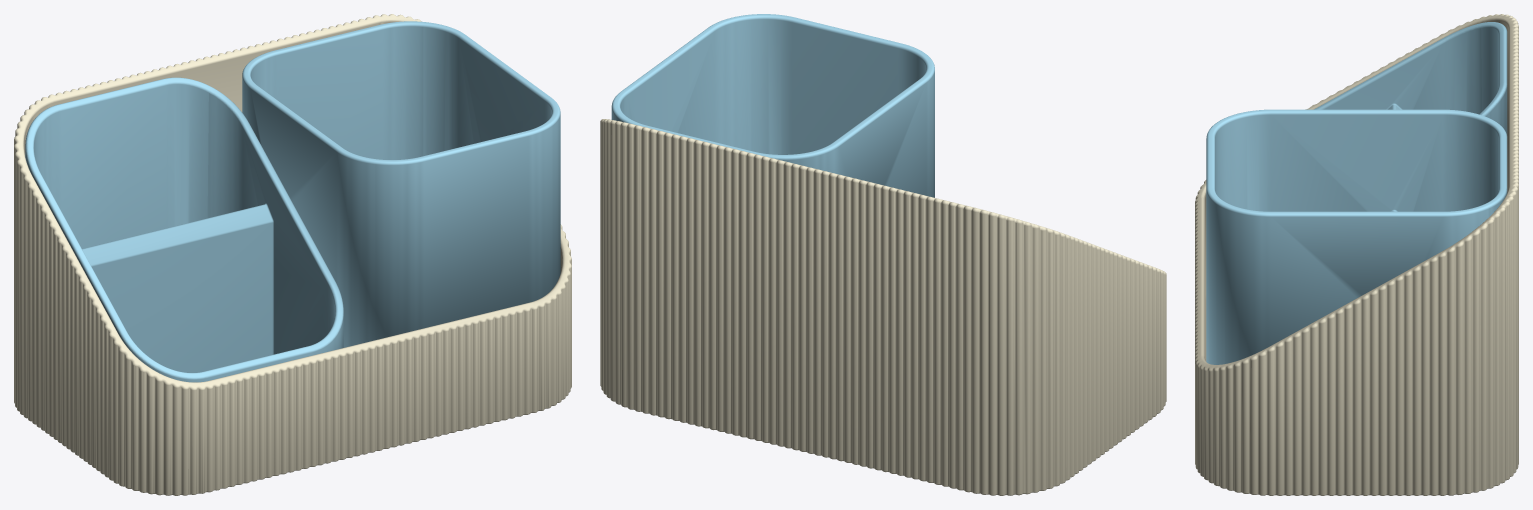
Rendered from masa-organizeri-egik.glb.
The picture shows the model from 3 angles, left to right: view 1: azimuth 30°, elevation 25°; view 2: azimuth 150°, elevation 25°; view 3: azimuth 270°, elevation 25°; orthographic projection.
Parts seen in each view (by area): view 1: Taban, Kare, Egik; view 2: Taban, Kare; view 3: Taban, Kare, Egik.
Boxes of the visible parts, bbox=[...] form: Taban: bbox=[14, 14, 571, 495]; Kare: bbox=[242, 21, 560, 347]; Egik: bbox=[25, 77, 343, 382]; Taban: bbox=[600, 119, 1166, 495]; Kare: bbox=[611, 14, 934, 197]; Taban: bbox=[1195, 14, 1518, 495]; Kare: bbox=[1206, 109, 1507, 364]; Egik: bbox=[1314, 22, 1507, 135].
Bounding box in the file's own units: 0.183 × 0.1086 × 0.113.
